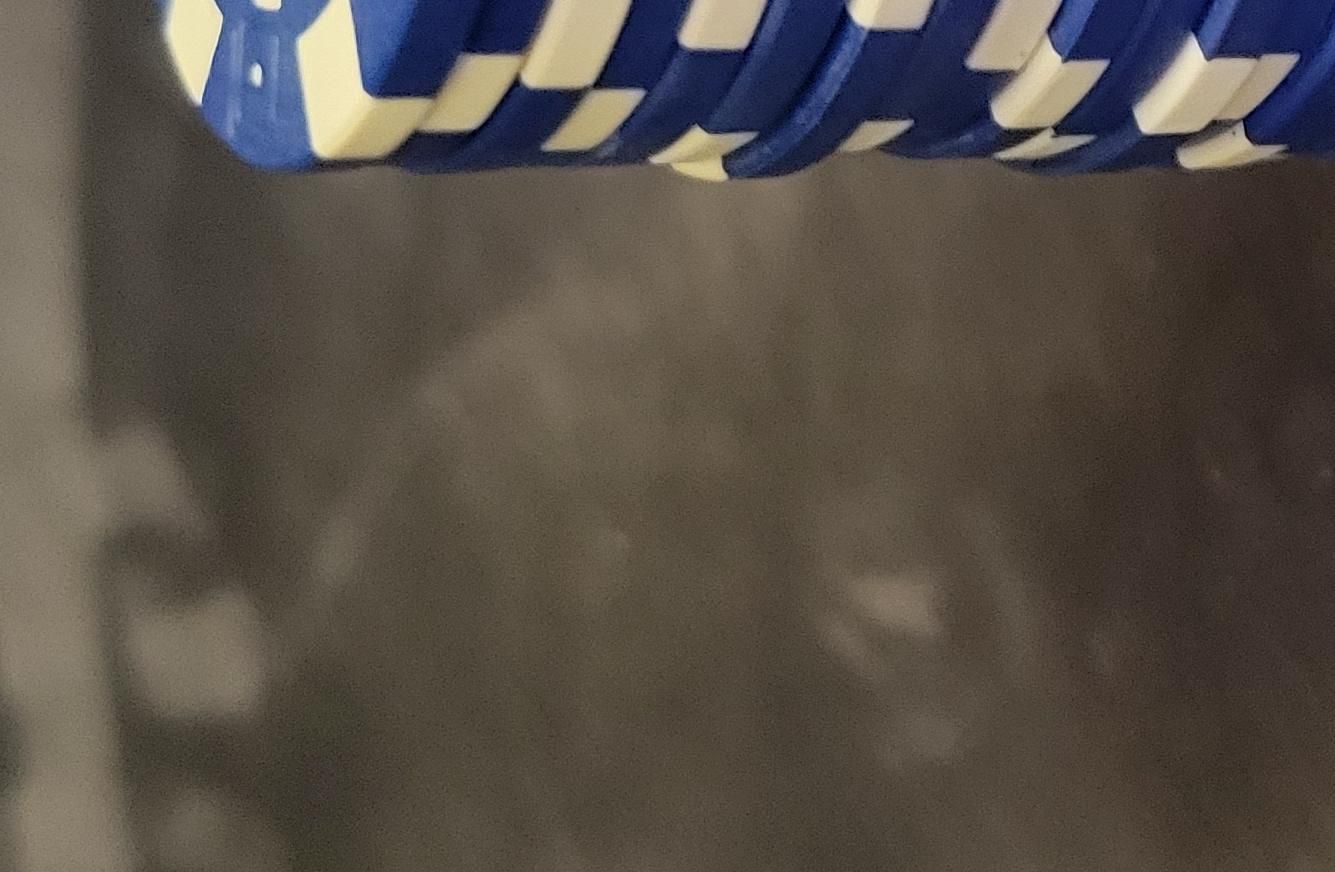Chip: (1, 532, 847, 872)
